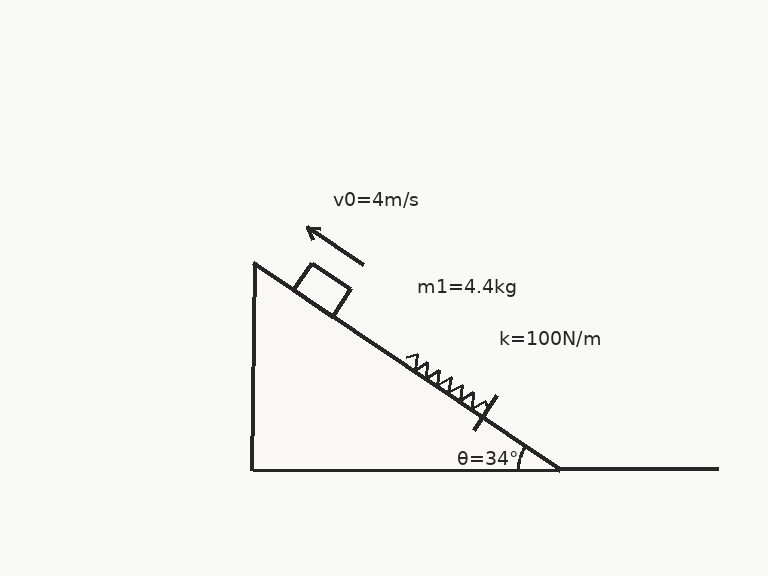block: (292, 260, 353, 319)
ramp: (251, 261, 560, 471)
spring: (405, 353, 489, 412)
